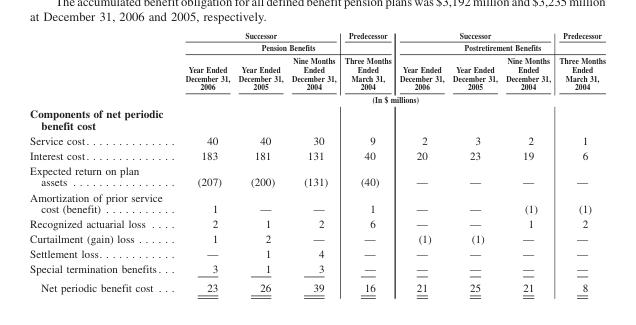table: (29, 29, 604, 293)
table column: (29, 29, 173, 293), (173, 29, 233, 293), (339, 29, 394, 293), (447, 29, 501, 293), (233, 29, 286, 293), (286, 29, 339, 293), (394, 29, 447, 293), (501, 29, 554, 293), (554, 29, 604, 293)
table column header: (29, 29, 604, 105)
table projected row header: (29, 105, 604, 132)
table row: (29, 53, 604, 92), (29, 105, 604, 132), (29, 162, 604, 189), (29, 189, 604, 215), (29, 261, 604, 278), (29, 245, 604, 261), (29, 132, 604, 147), (29, 147, 604, 162), (29, 215, 604, 230), (29, 230, 604, 245), (29, 278, 604, 293), (29, 40, 604, 53), (29, 92, 604, 105), (29, 29, 604, 40)
table spanning cell: (173, 92, 604, 105), (173, 40, 394, 53), (394, 40, 604, 53), (173, 29, 339, 40), (394, 29, 554, 40)
